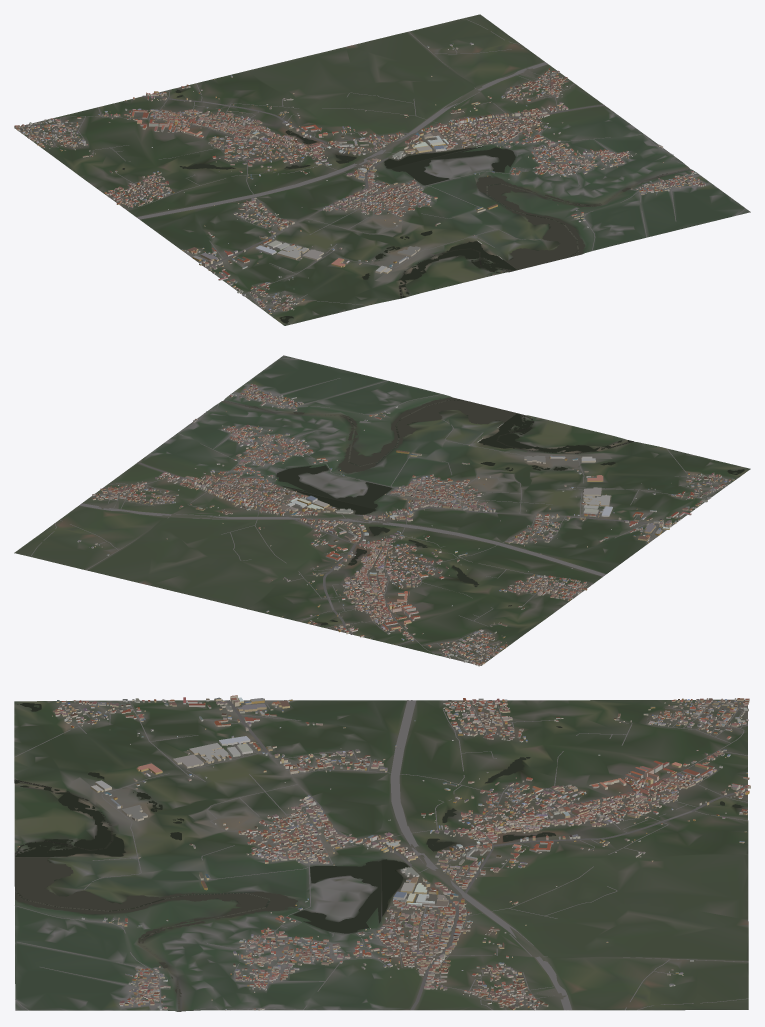
3 renders of one model, top to bottom at view 1: azimuth 30°, elevation 25°; view 2: azimuth 150°, elevation 25°; view 3: azimuth 270°, elevation 25°, orthographic. The views are drawn at different scales.
Parts seen in each view (by area): view 1: ground, buildings, water, roads; view 2: ground, buildings, water, roads; view 3: ground, buildings, water, roads.
Part boxes in pixels (<box>): ground: <box>14,14,750,325</box>; buildings: <box>14,42,705,314</box>; water: <box>122,89,689,323</box>; roads: <box>15,18,745,311</box>; ground: <box>14,355,750,665</box>; buildings: <box>77,384,734,666</box>; water: <box>224,397,744,625</box>; roads: <box>30,358,730,662</box>; ground: <box>14,699,748,1011</box>; buildings: <box>17,695,750,1010</box>; water: <box>14,703,743,1010</box>; roads: <box>14,699,748,1010</box>.
Size of the model in its own units: 2816 by 33.18 by 2817.
